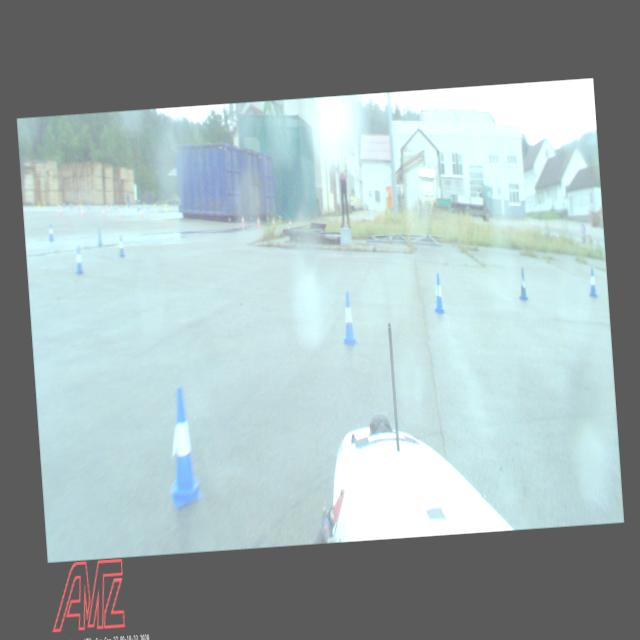blue_cone: (162, 386, 202, 508), (339, 290, 358, 344), (432, 272, 446, 314), (518, 268, 528, 300), (74, 245, 83, 274), (588, 266, 596, 298), (118, 234, 125, 256), (96, 225, 102, 248), (48, 222, 54, 240)
orange_cone: (256, 216, 260, 227), (241, 213, 244, 224), (288, 218, 291, 228), (272, 217, 274, 227)
